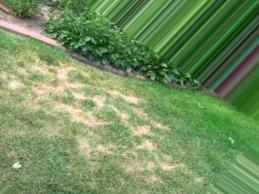patch: (86, 136, 168, 180), (28, 58, 82, 124), (87, 80, 146, 138)
